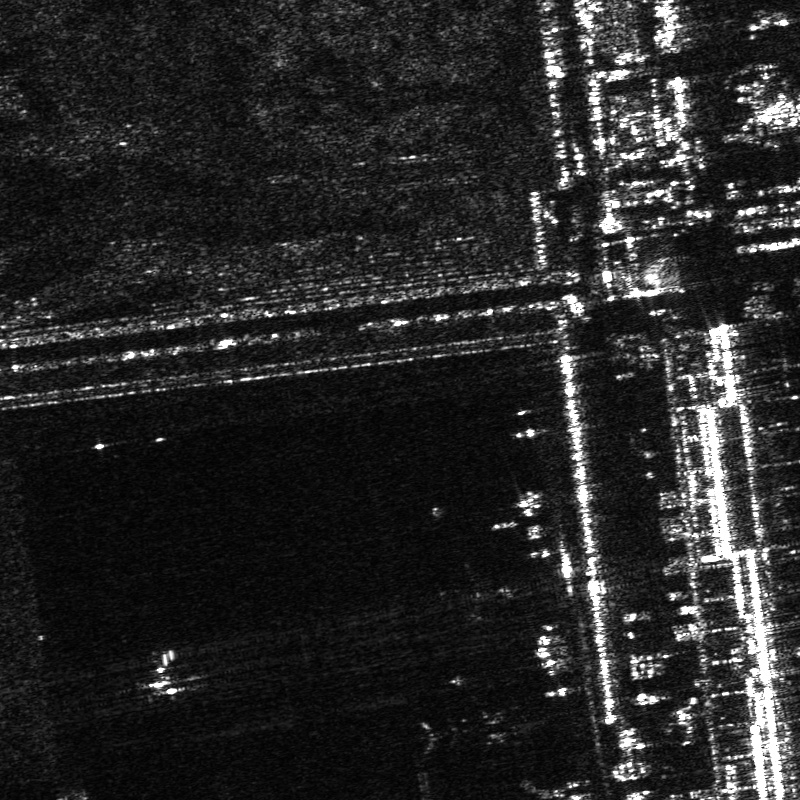Boeing787: (428, 680, 526, 764)
other: (433, 561, 516, 628), (139, 649, 197, 703)
